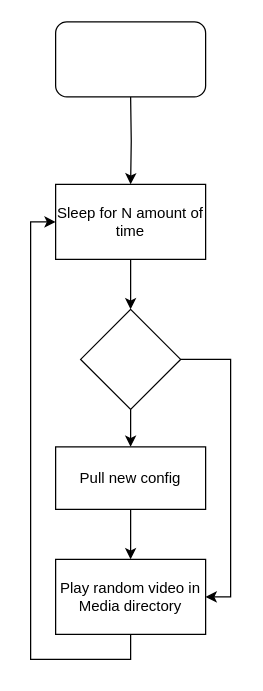
This 263x691 diagram has some shape labels left out. The shapes that lost their labels are listed below. From the top down, each one's centre as x and y in pixels, then its label:
point 130,59: Start
point 130,358: New Config?
